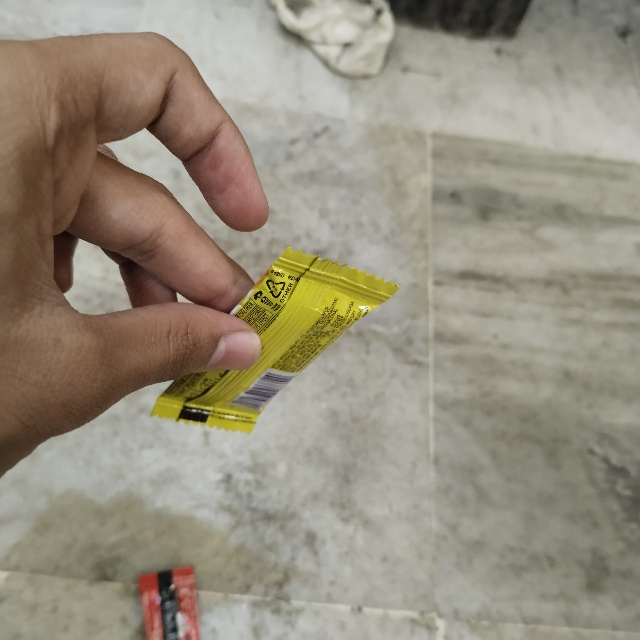Orbit: (303, 203, 429, 458)
